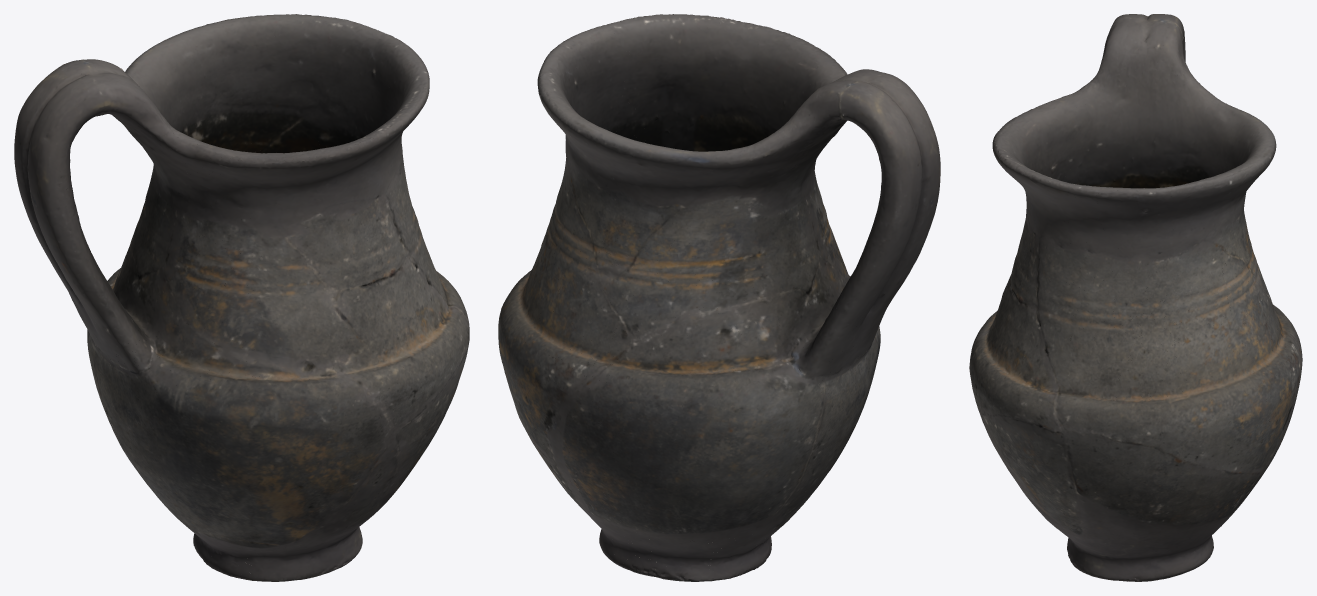
File: bucchero_ladle.glb
The picture shows the model from 3 angles, left to right: view 1: azimuth 30°, elevation 25°; view 2: azimuth 150°, elevation 25°; view 3: azimuth 270°, elevation 25°; orthographic projection. The views are drawn at different scales.
Visible parts, largest first — view 1: Object_3, Object_2; view 2: Object_2, Object_3; view 3: Object_3, Object_2.
Boxes of the visible parts, left/top/right/bottom form: Object_3: left=35, top=49, right=469, bottom=581; Object_2: left=14, top=14, right=431, bottom=581; Object_2: left=511, top=34, right=940, bottom=581; Object_3: left=498, top=14, right=905, bottom=581; Object_3: left=969, top=87, right=1301, bottom=581; Object_2: left=1055, top=14, right=1302, bottom=581.
Size of the model in its own units: 0.1219 by 0.1477 by 0.097.
1 material, 1 textured.
